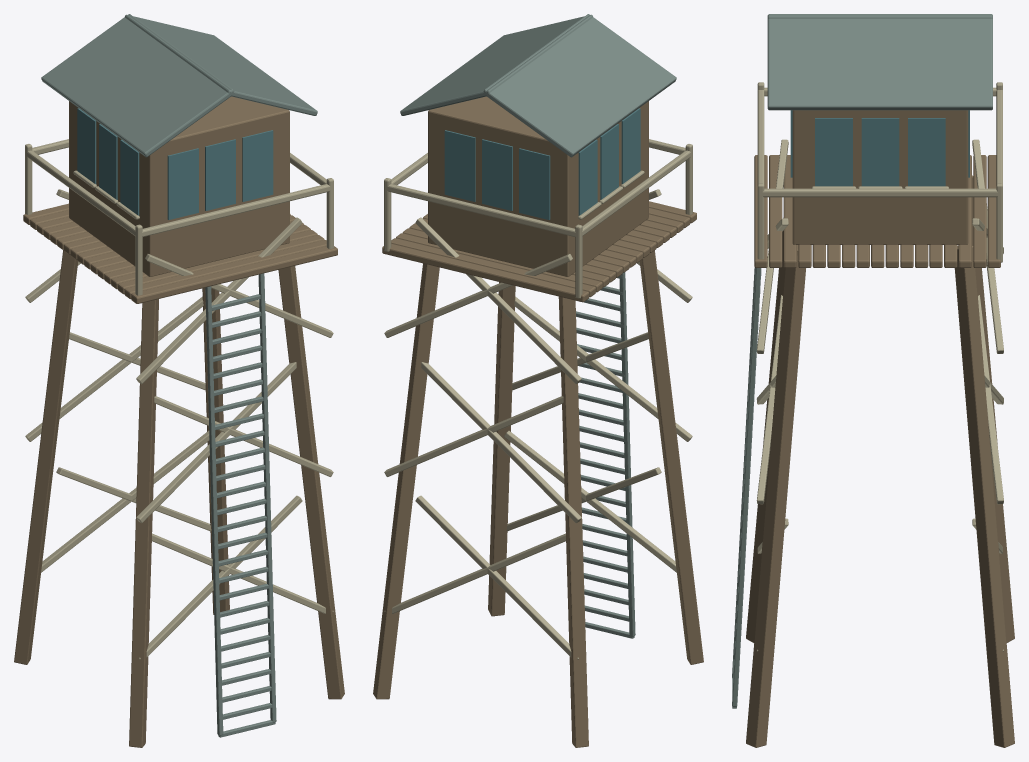
File: forest-lookout.glb
3 views of the same model, side by side, from view 1: azimuth 30°, elevation 25°; view 2: azimuth 150°, elevation 25°; view 3: azimuth 270°, elevation 25° (orthographic). The views are drawn at different scales.
Parts seen in each view (by area): view 1: Cabin.001, Pitched steel roof.002, Tapered support.006, Tapered support.004, Tapered support.005, Pitched steel roof.003, Ladder stile.002, Ladder stile.003, Tapered support.007, Deck plank.017, Window.013, Window.017 (+19 smaller); view 2: Cabin.001, Pitched steel roof.002, Tapered support.007, Tapered support.005, Tapered support.004, Pitched steel roof.003, Tapered support.006, Deck plank.033, Ladder stile.002, Window.019, Window.023, Window.021 (+19 smaller); view 3: Pitched steel roof.003, Cabin.001, Tapered support.007, Tapered support.006, Window.020, Ladder stile.003, Window.018, Window.022, Deck railing.005, Tapered support.005, Tapered support.004, Cross bracing.019 (+15 smaller).
Boxes of the visible parts, x1=… form: Cabin.001: x1=69, y1=96, x2=289, y2=276; Pitched steel roof.002: x1=41, y1=14, x2=234, y2=157; Tapered support.006: x1=278, y1=266, x2=344, y2=699; Tapered support.004: x1=129, y1=299, x2=158, y2=747; Tapered support.005: x1=14, y1=250, x2=78, y2=664; Pitched steel roof.003: x1=125, y1=14, x2=317, y2=115; Ladder stile.002: x1=205, y1=286, x2=223, y2=735; Ladder stile.003: x1=258, y1=273, x2=276, y2=722; Tapered support.007: x1=202, y1=288, x2=229, y2=614; Deck plank.017: x1=131, y1=246, x2=337, y2=303; Window.013: x1=167, y1=148, x2=198, y2=219; Window.017: x1=242, y1=130, x2=273, y2=201; Cabin.001: x1=428, y1=96, x2=648, y2=276; Pitched steel roof.002: x1=483, y1=14, x2=676, y2=157; Tapered support.007: x1=373, y1=263, x2=439, y2=699; Tapered support.005: x1=558, y1=296, x2=588, y2=747; Tapered support.004: x1=639, y1=250, x2=703, y2=664; Pitched steel roof.003: x1=400, y1=14, x2=592, y2=115; Tapered support.006: x1=488, y1=282, x2=515, y2=616; Deck plank.033: x1=382, y1=243, x2=588, y2=302; Ladder stile.002: x1=619, y1=272, x2=635, y2=636; Window.019: x1=519, y1=148, x2=550, y2=219; Window.023: x1=444, y1=130, x2=475, y2=201; Window.021: x1=482, y1=139, x2=512, y2=210; Pitched steel roof.003: x1=767, y1=14, x2=992, y2=110; Cabin.001: x1=792, y1=110, x2=968, y2=244; Tapered support.007: x1=954, y1=245, x2=1014, y2=747; Tapered support.006: x1=746, y1=245, x2=805, y2=747; Window.020: x1=861, y1=118, x2=899, y2=186; Ladder stile.003: x1=732, y1=268, x2=761, y2=706; Window.018: x1=815, y1=118, x2=852, y2=186; Window.022: x1=908, y1=118, x2=945, y2=186; Deck railing.005: x1=762, y1=188, x2=997, y2=197; Tapered support.005: x1=972, y1=175, x2=1014, y2=642; Tapered support.004: x1=746, y1=218, x2=785, y2=642; Cross bracing.019: x1=756, y1=295, x2=782, y2=504.
Size of the model in its own units: 4.06 by 11.31 by 4.27.
